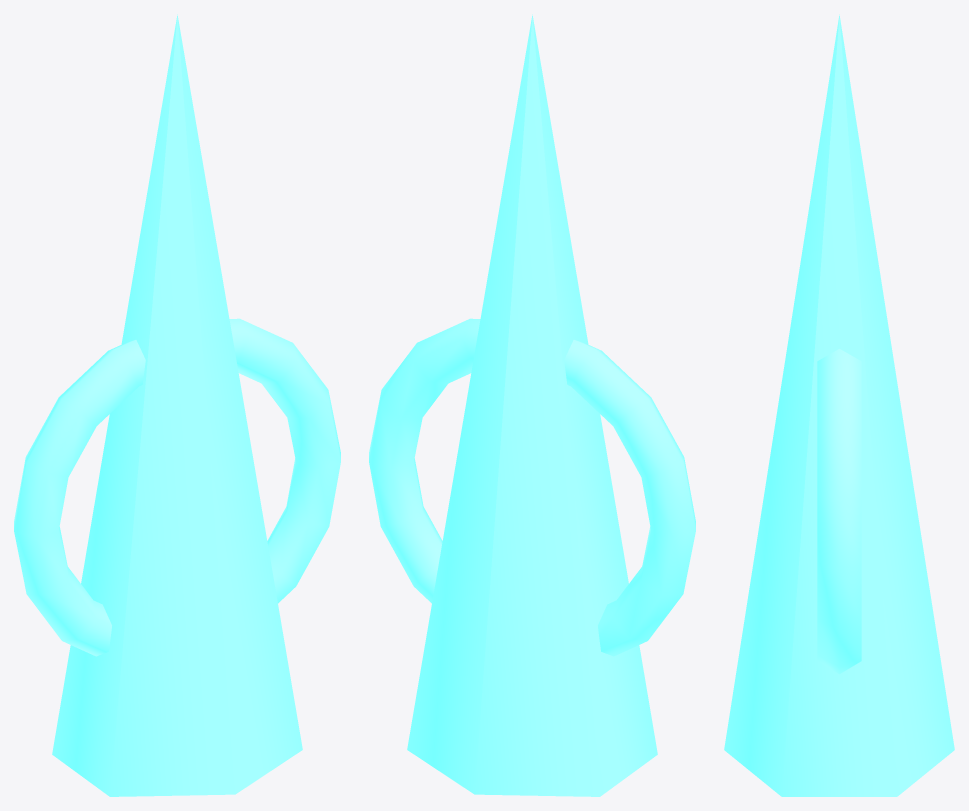
Rendered from kui_horn.glb.
3 views of the same model, side by side, from view 1: azimuth 30°, elevation 25°; view 2: azimuth 150°, elevation 25°; view 3: azimuth 270°, elevation 25° (orthographic).
Parts seen in each view (by area): view 1: horn, charge; view 2: horn, charge; view 3: horn, charge.
Part boxes in pixels (left/top/right/bottom): horn: left=52, top=14, right=302, bottom=796; charge: left=14, top=318, right=340, bottom=656; horn: left=407, top=14, right=657, bottom=796; charge: left=369, top=318, right=695, bottom=656; horn: left=724, top=14, right=954, bottom=796; charge: left=817, top=349, right=861, bottom=674.
Bounding box in the file's own units: 0.88 × 1.9 × 0.54.
